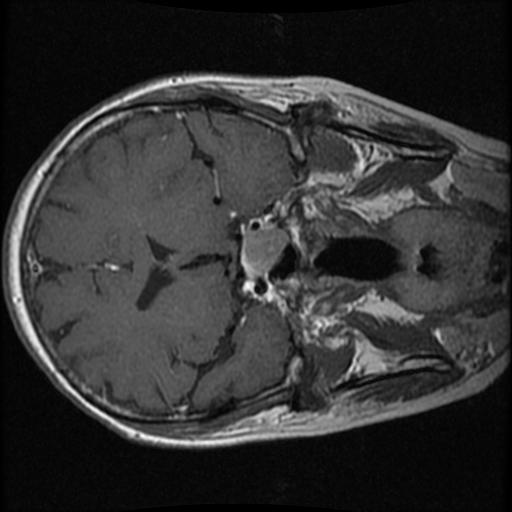pituitary tumour: (239, 226, 290, 279)
